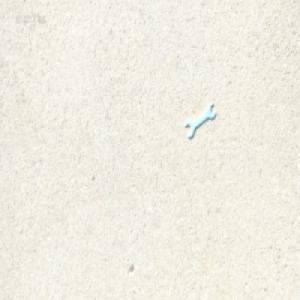Wrench: (184, 102, 215, 137)
